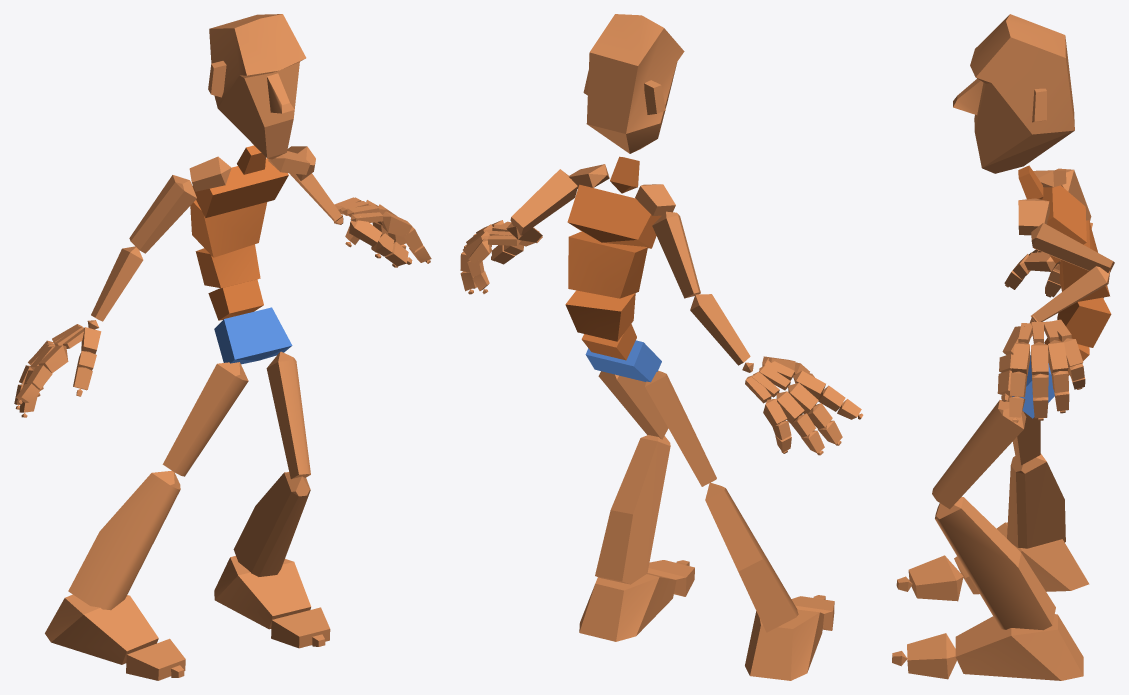
The model's file is prueba86.obj.
The picture shows the model from 3 angles, left to right: view 1: azimuth 30°, elevation 25°; view 2: azimuth 150°, elevation 25°; view 3: azimuth 270°, elevation 25°; orthographic projection. The views are drawn at different scales.
Parts seen in each view (by area): view 1: BOPED_Head, BOPED_R_leg, BOPED_R_foot, BOPED_L_leg, BOPED_R_foot01, BOPED_R_legup, BOPED_L_legup, Bone01, Bone04, Bone05, BOPED_R_arm_upper, Bone03 (+7 smaller); view 2: BOPED_Head, BOPED_L_leg, BOPED_R_leg, BOPED_R_foot01, Bone04, BOPED_R_foot, Bone05, BOPED_R_legup, Bone03, BOPED_R_arm_upper, BOPED_L_legup, BOPED_L_arm_upper (+8 smaller); view 3: BOPED_Head, BOPED_L_leg, BOPED_R_foot01, BOPED_R_leg, BOPED_L_legup, BOPED_R_foot, BOPED_L_arm_upper, BOPED_R_foot_toe01, BOPED_R_foot_toe04, Bone05, Bone03, BOPED_L_arm_fore (+15 smaller).
Boxes of the visible parts, left/top/right/bottom form: BOPED_Head: left=208, top=14, right=306, bottom=159; BOPED_R_leg: left=68, top=470, right=180, bottom=610; BOPED_R_foot: left=45, top=594, right=158, bottom=664; BOPED_L_leg: left=233, top=472, right=310, bottom=576; BOPED_R_foot01: left=214, top=556, right=311, bottom=629; BOPED_R_legup: left=162, top=362, right=248, bottom=476; BOPED_L_legup: left=266, top=351, right=310, bottom=479; Bone01: left=214, top=307, right=292, bottom=364; Bone04: left=190, top=200, right=267, bottom=257; Bone05: left=193, top=158, right=288, bottom=217; BOPED_R_arm_upper: left=129, top=175, right=196, bottom=253; Bone03: left=195, top=244, right=260, bottom=288; BOPED_Head: left=583, top=14, right=684, bottom=153; BOPED_L_leg: left=595, top=435, right=670, bottom=584; BOPED_R_leg: left=705, top=482, right=798, bottom=632; BOPED_R_foot01: left=579, top=573, right=676, bottom=641; Bone04: left=568, top=231, right=647, bottom=298; BOPED_R_foot: left=745, top=609, right=824, bottom=680; Bone05: left=567, top=184, right=661, bottom=248; BOPED_R_legup: left=645, top=370, right=716, bottom=486; Bone03: left=565, top=290, right=635, bottom=341; BOPED_R_arm_upper: left=652, top=211, right=700, bottom=298; BOPED_L_legup: left=598, top=371, right=668, bottom=439; BOPED_L_arm_upper: left=510, top=169, right=577, bottom=235; BOPED_Head: left=953, top=14, right=1074, bottom=173; BOPED_L_leg: left=935, top=497, right=1055, bottom=630; BOPED_R_foot01: left=955, top=614, right=1083, bottom=680; BOPED_R_leg: left=1007, top=453, right=1065, bottom=548; BOPED_L_legup: left=932, top=400, right=1026, bottom=509; BOPED_R_foot: left=954, top=522, right=1089, bottom=594; BOPED_L_arm_upper: left=1031, top=223, right=1114, bottom=272; BOPED_R_foot_toe01: left=908, top=555, right=963, bottom=601; BOPED_R_foot_toe04: left=907, top=633, right=956, bottom=679; Bone05: left=1042, top=185, right=1086, bottom=263; Bone03: left=1057, top=297, right=1111, bottom=347; BOPED_L_arm_fore: left=1031, top=266, right=1110, bottom=321.
Bounding box in the file's own units: 130 × 182 × 57.39.
